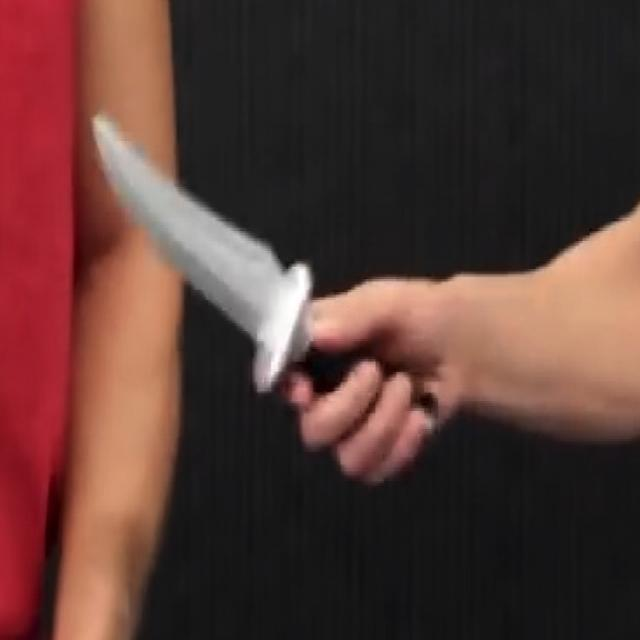suspicion: (81, 100, 637, 492), (84, 105, 316, 394)
